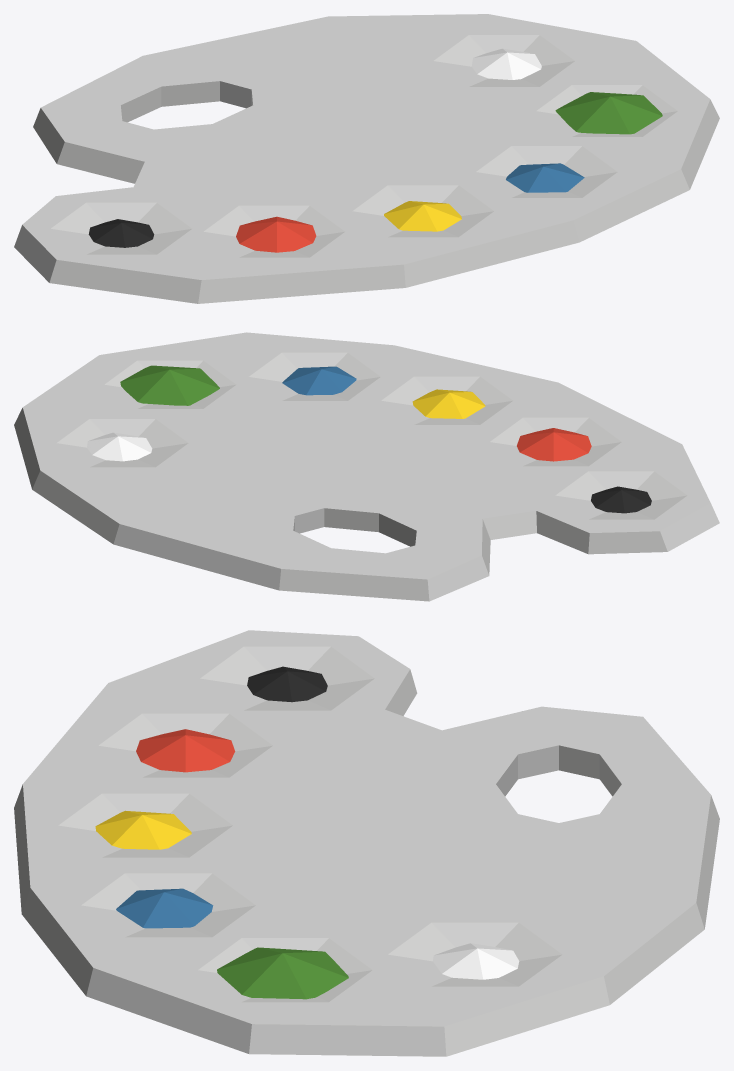
Rendered from tools_palette-color-full.fbx.
The picture shows the model from 3 angles, top to bottom: view 1: azimuth 30°, elevation 25°; view 2: azimuth 150°, elevation 25°; view 3: azimuth 270°, elevation 25°; orthographic projection. The views are drawn at different scales.
Visible parts, largest first — view 1: tools_palette_color_full; view 2: tools_palette_color_full; view 3: tools_palette_color_full.
Boxes of the visible parts, left/top/right/bottom form: tools_palette_color_full: left=14, top=14, right=719, bottom=303; tools_palette_color_full: left=14, top=332, right=719, bottom=601; tools_palette_color_full: left=14, top=630, right=719, bottom=1056.
Size of the model in its own units: 200 by 9.92 by 147.
